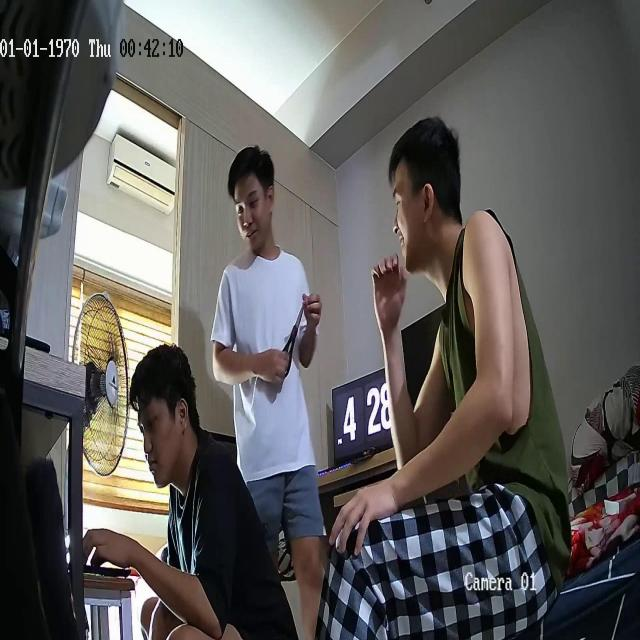scissor: (281, 302, 305, 378)
